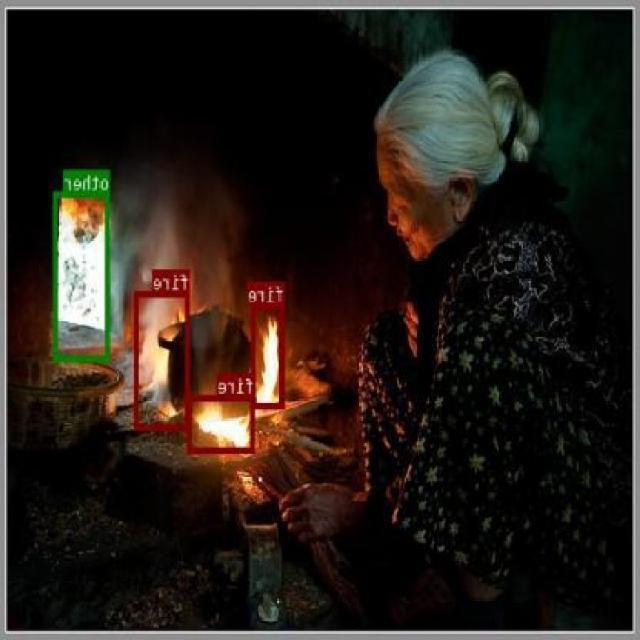Fire: (136, 290, 190, 428), (188, 394, 255, 452), (252, 302, 286, 407)
